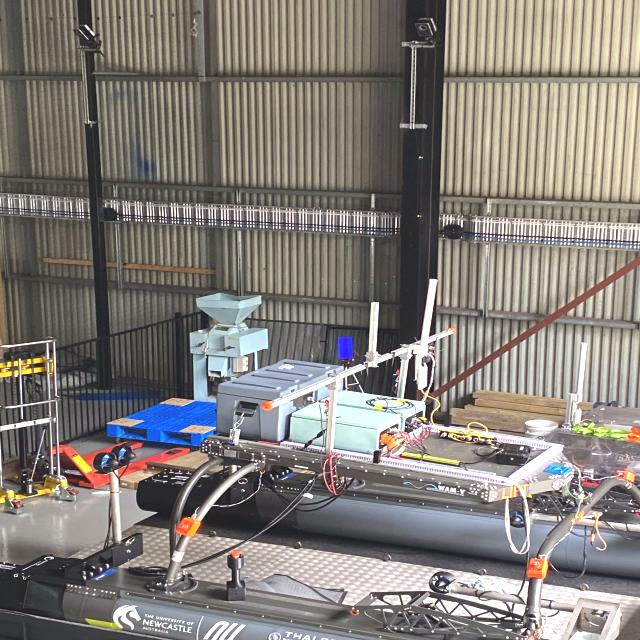matrix: (336, 336, 355, 360)
